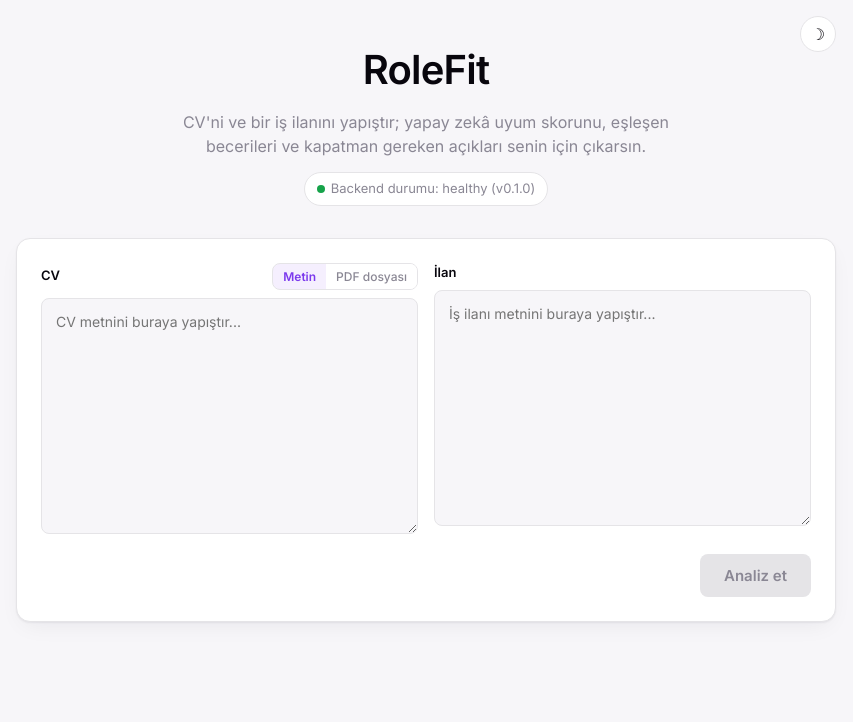
Test: App › shows an error message when the analysis request fails
The image size is (853, 722).
Step 1. Type "Örnek CV metni" into the text box labelled "CV" → (230, 416), box 41,298 -> 418,534
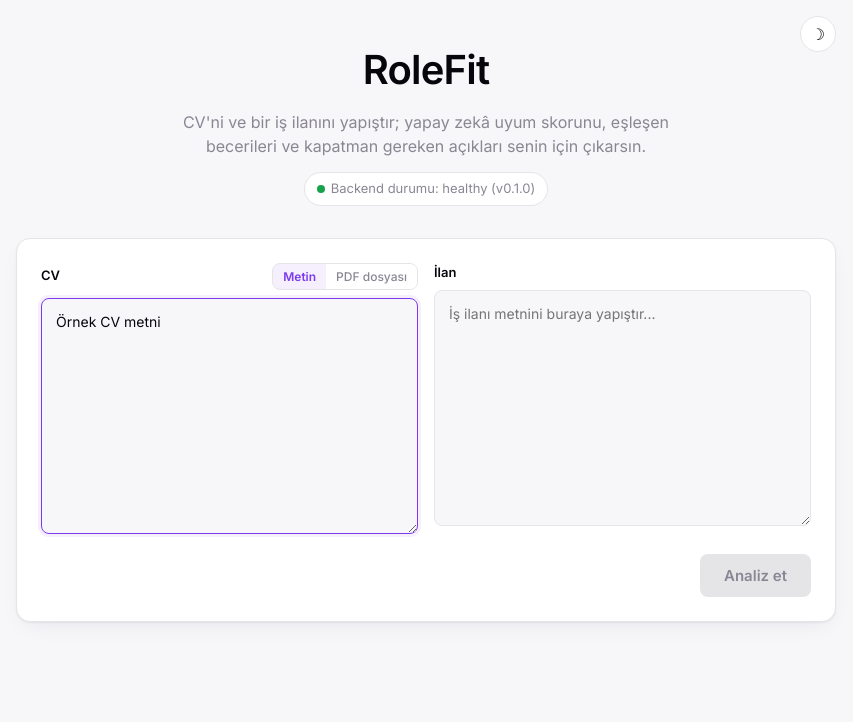
Step 2. Type "Örnek ilan metni" into the text box labelled "İlan" → (622, 408), box 434,290 -> 811,526
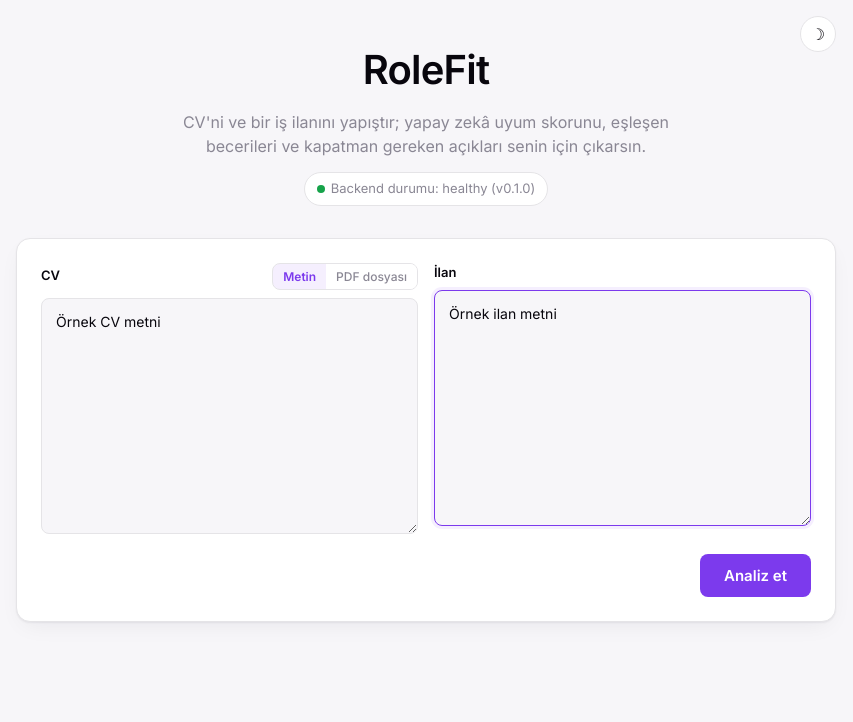
Step 3. Click the button "Analiz et" → (756, 575), box 700,554 -> 811,596
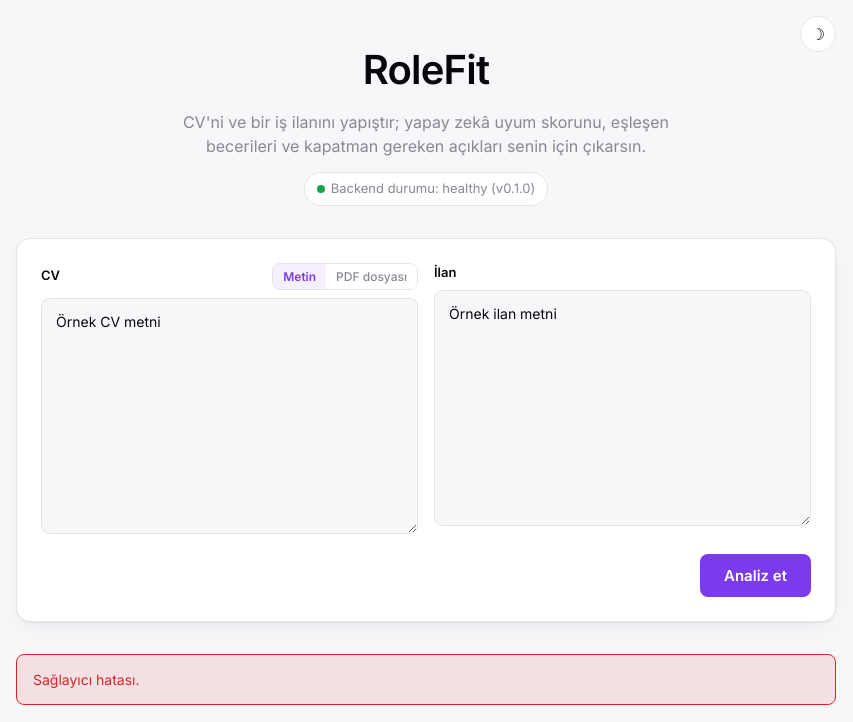
Check: the message reads "Sağlayıcı hatası.", box 33,670 -> 140,688
